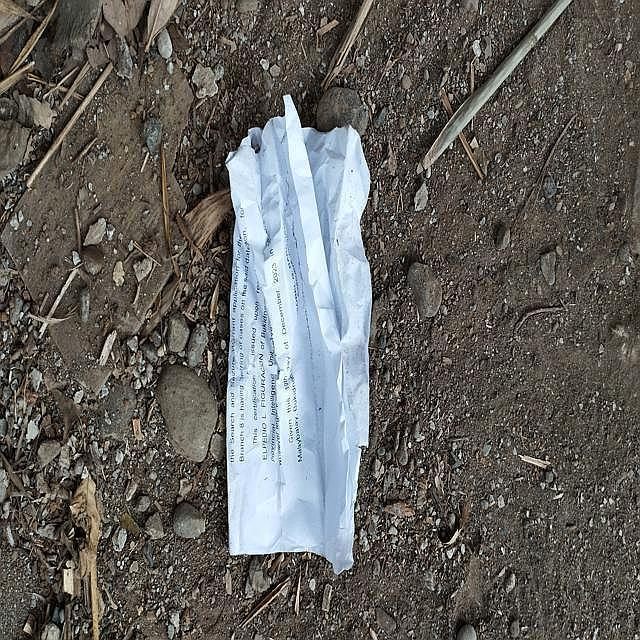Biodegradable: (229, 95, 369, 576)
